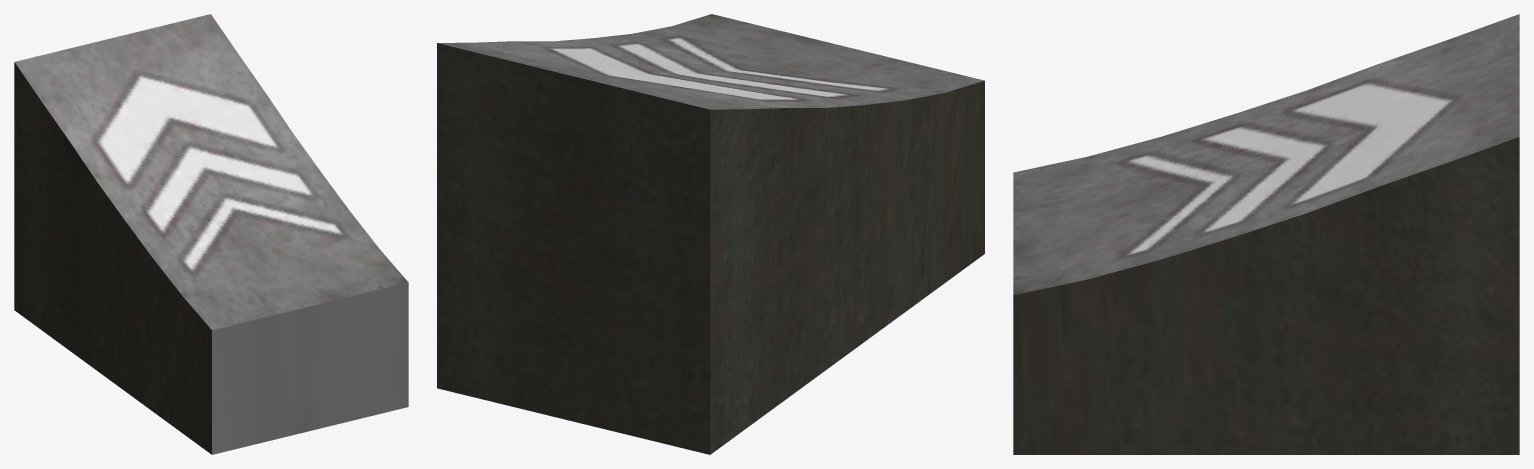
File: Road_Jump_Half.fbx
The picture shows the model from 3 angles, left to right: view 1: azimuth 30°, elevation 25°; view 2: azimuth 150°, elevation 25°; view 3: azimuth 270°, elevation 25°; orthographic projection. The views are drawn at different scales.
Visible parts, largest first — view 1: Road_Jump_Half; view 2: Road_Jump_Half; view 3: Road_Jump_Half.
Boxes of the visible parts, x1,y1,x2,y2 form: Road_Jump_Half: (14,14,408,454); Road_Jump_Half: (437,14,984,454); Road_Jump_Half: (1013,14,1519,454).
Bounding box in the file's own units: 660 × 797 × 1150.
